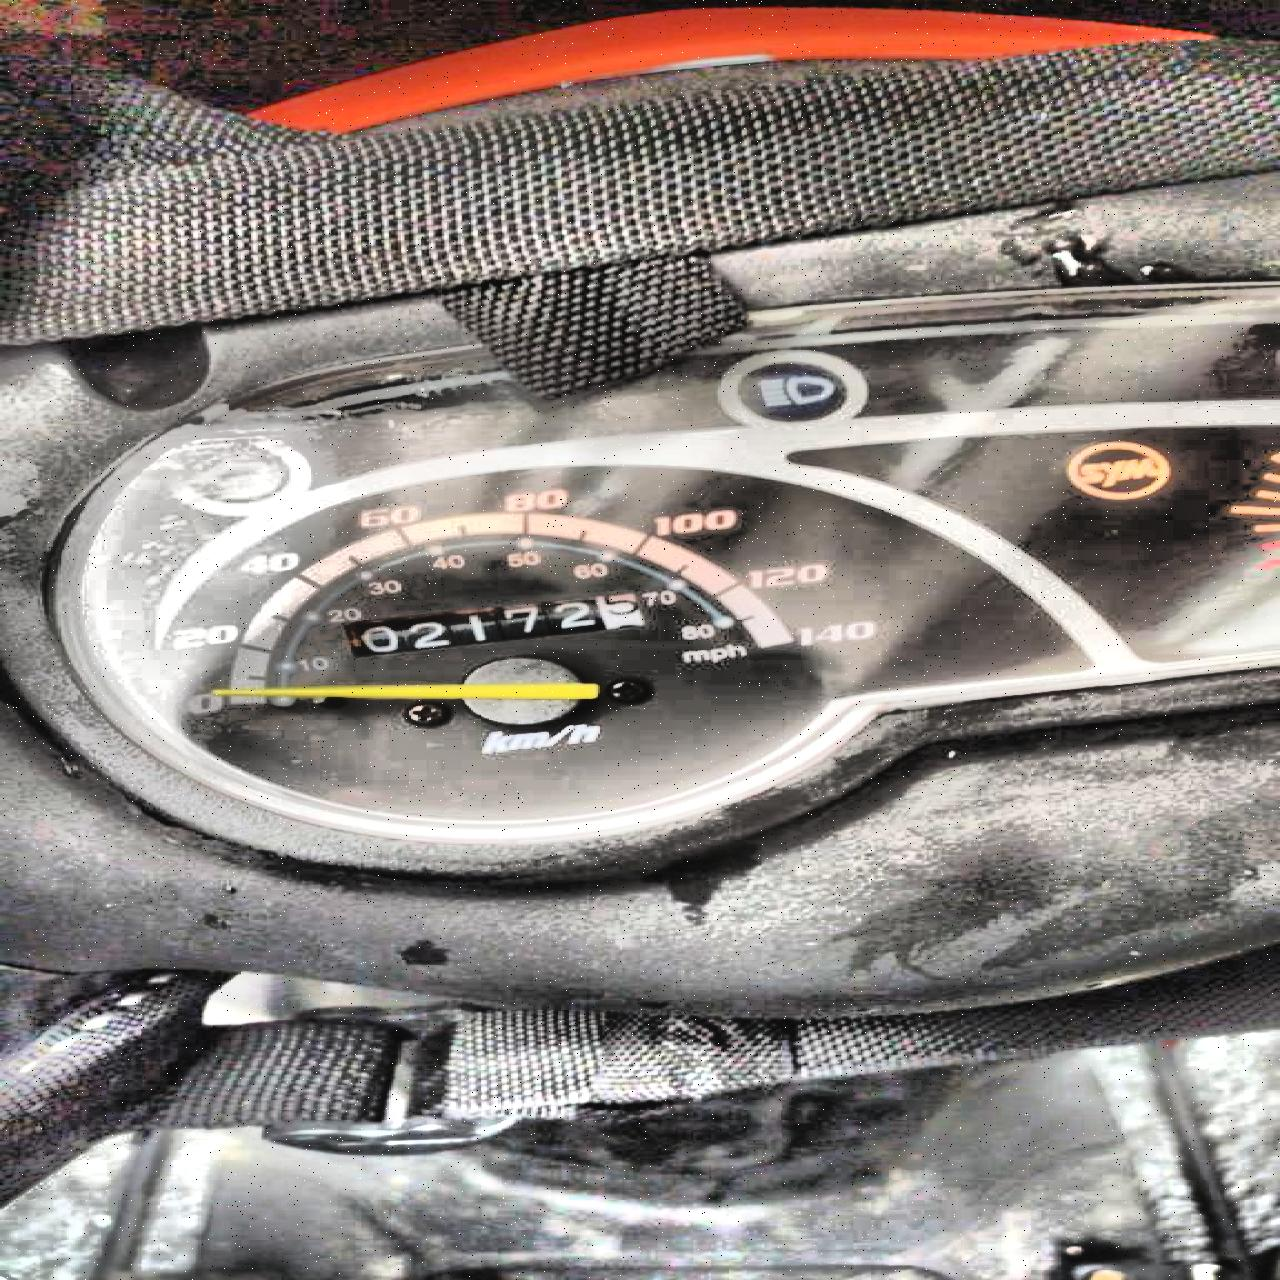0: (358, 626, 399, 653), (345, 605, 362, 621)
1: (459, 608, 489, 646)
2: (404, 621, 451, 651), (551, 599, 595, 629)
5: (602, 592, 638, 618)
7: (498, 602, 540, 636)
odometer: (345, 592, 645, 658)
